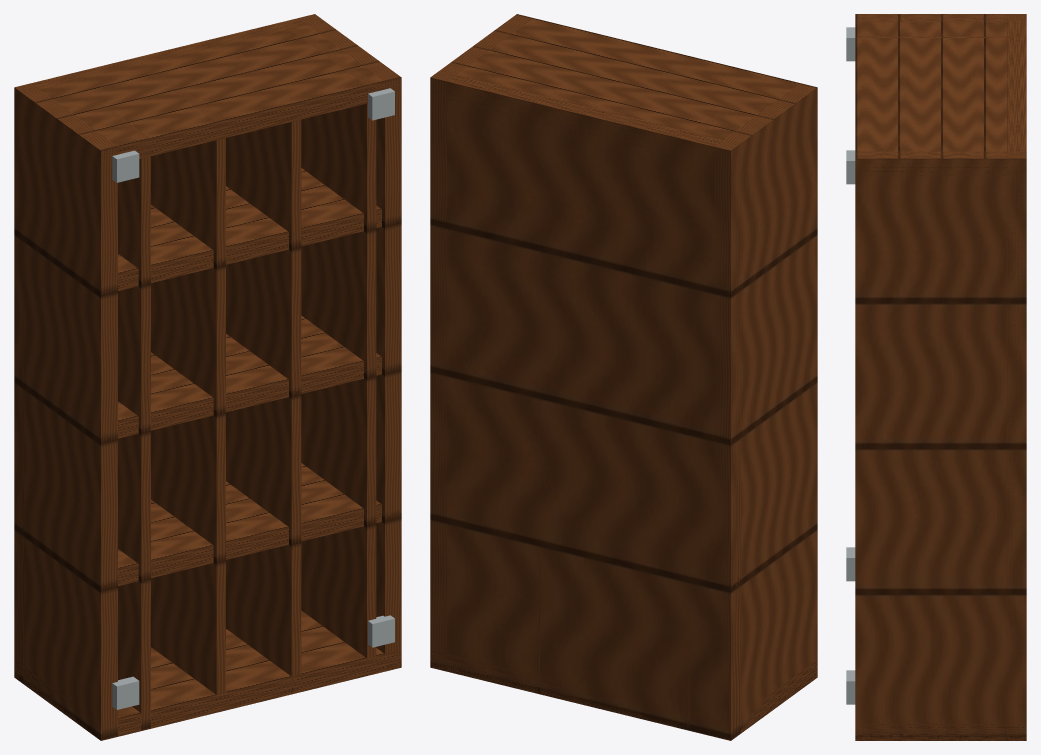
Rendered from suburban-outbreak-interiors-pantry-bottle-cabinet-24b22c88__19919.glb.
3 views of the same model, side by side, from view 1: azimuth 30°, elevation 25°; view 2: azimuth 150°, elevation 25°; view 3: azimuth 270°, elevation 25° (orthographic).
Parts seen in each view (by area): view 1: pantry-bottle-cabinet; view 2: pantry-bottle-cabinet; view 3: pantry-bottle-cabinet.
Part boxes in pixels (box(x1,y1,x2,y2)): pantry-bottle-cabinet: box(14, 14, 401, 740); pantry-bottle-cabinet: box(430, 14, 817, 740); pantry-bottle-cabinet: box(846, 14, 1026, 740).
Size of the model in its own units: 0.8001 by 1.5 by 0.421.
2 materials, 1 textured.
